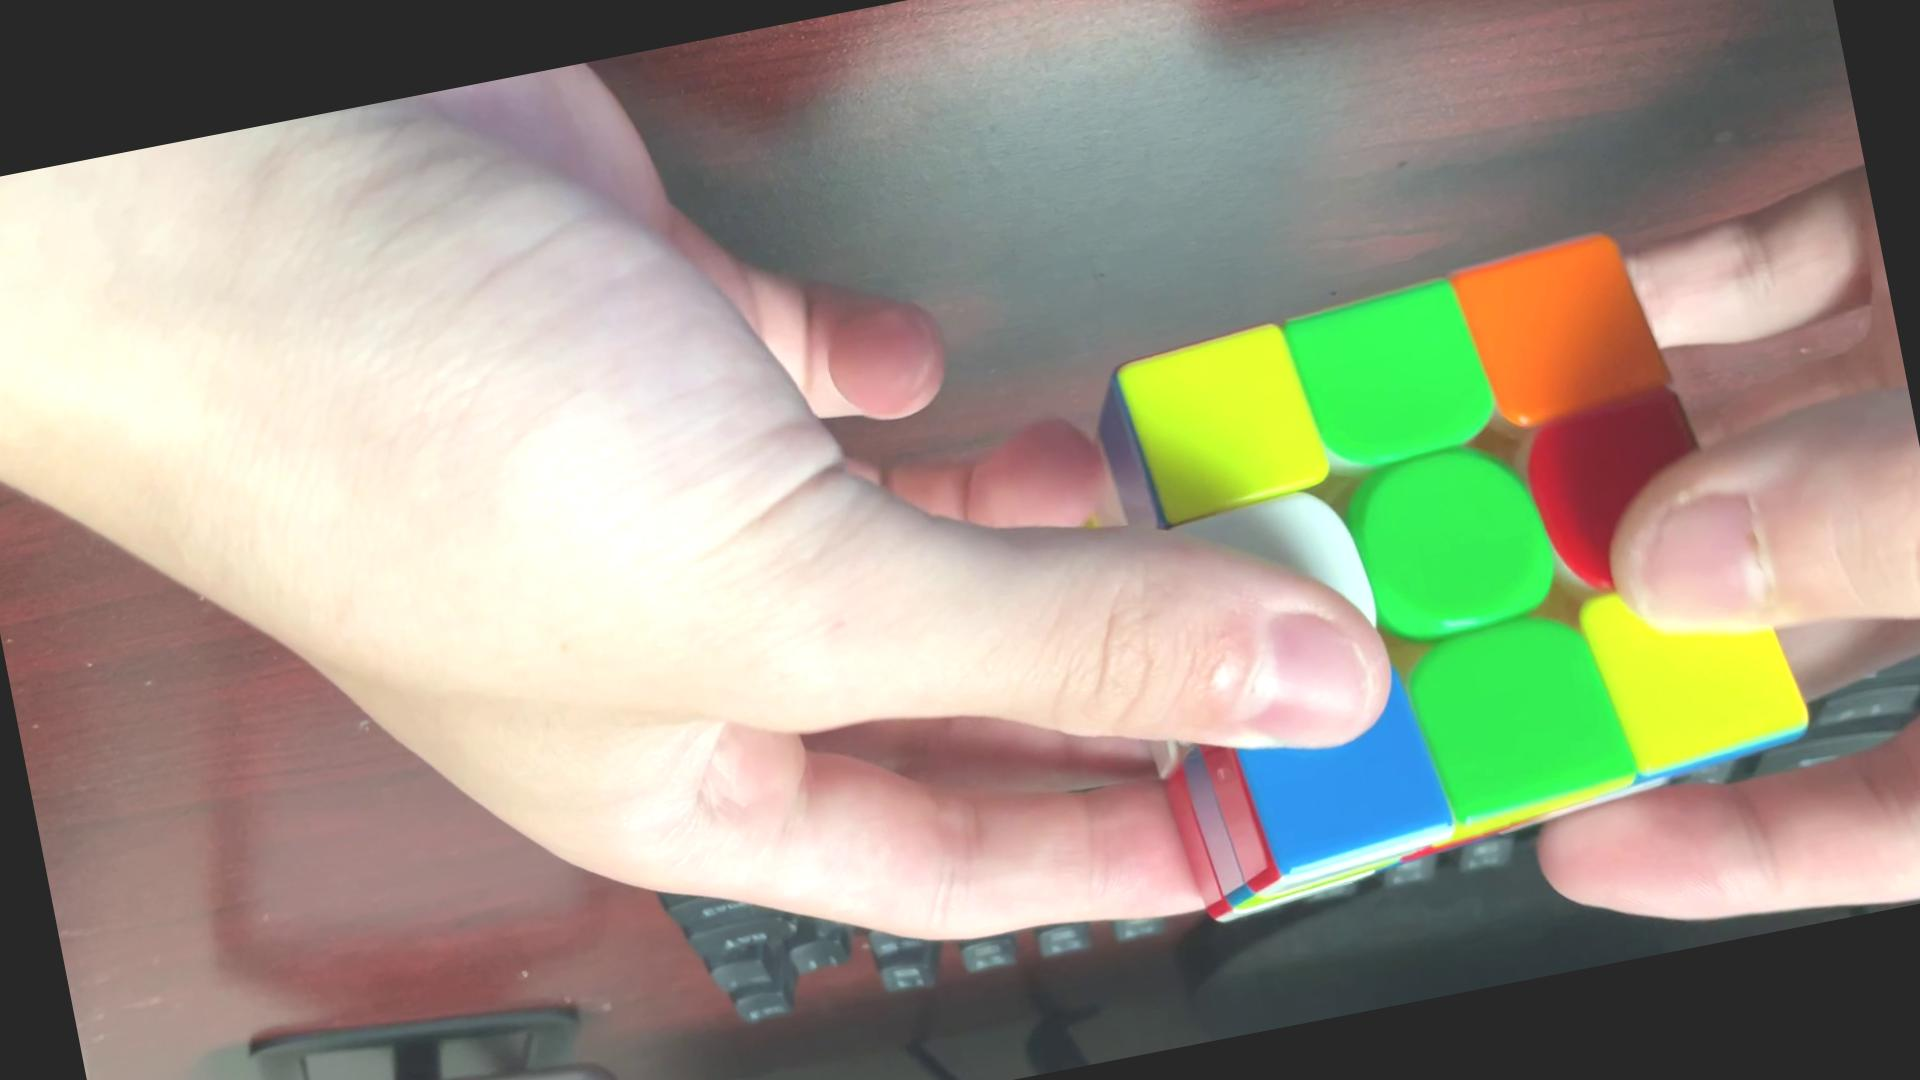Rubiks-Cube: (1066, 200, 1832, 946)
